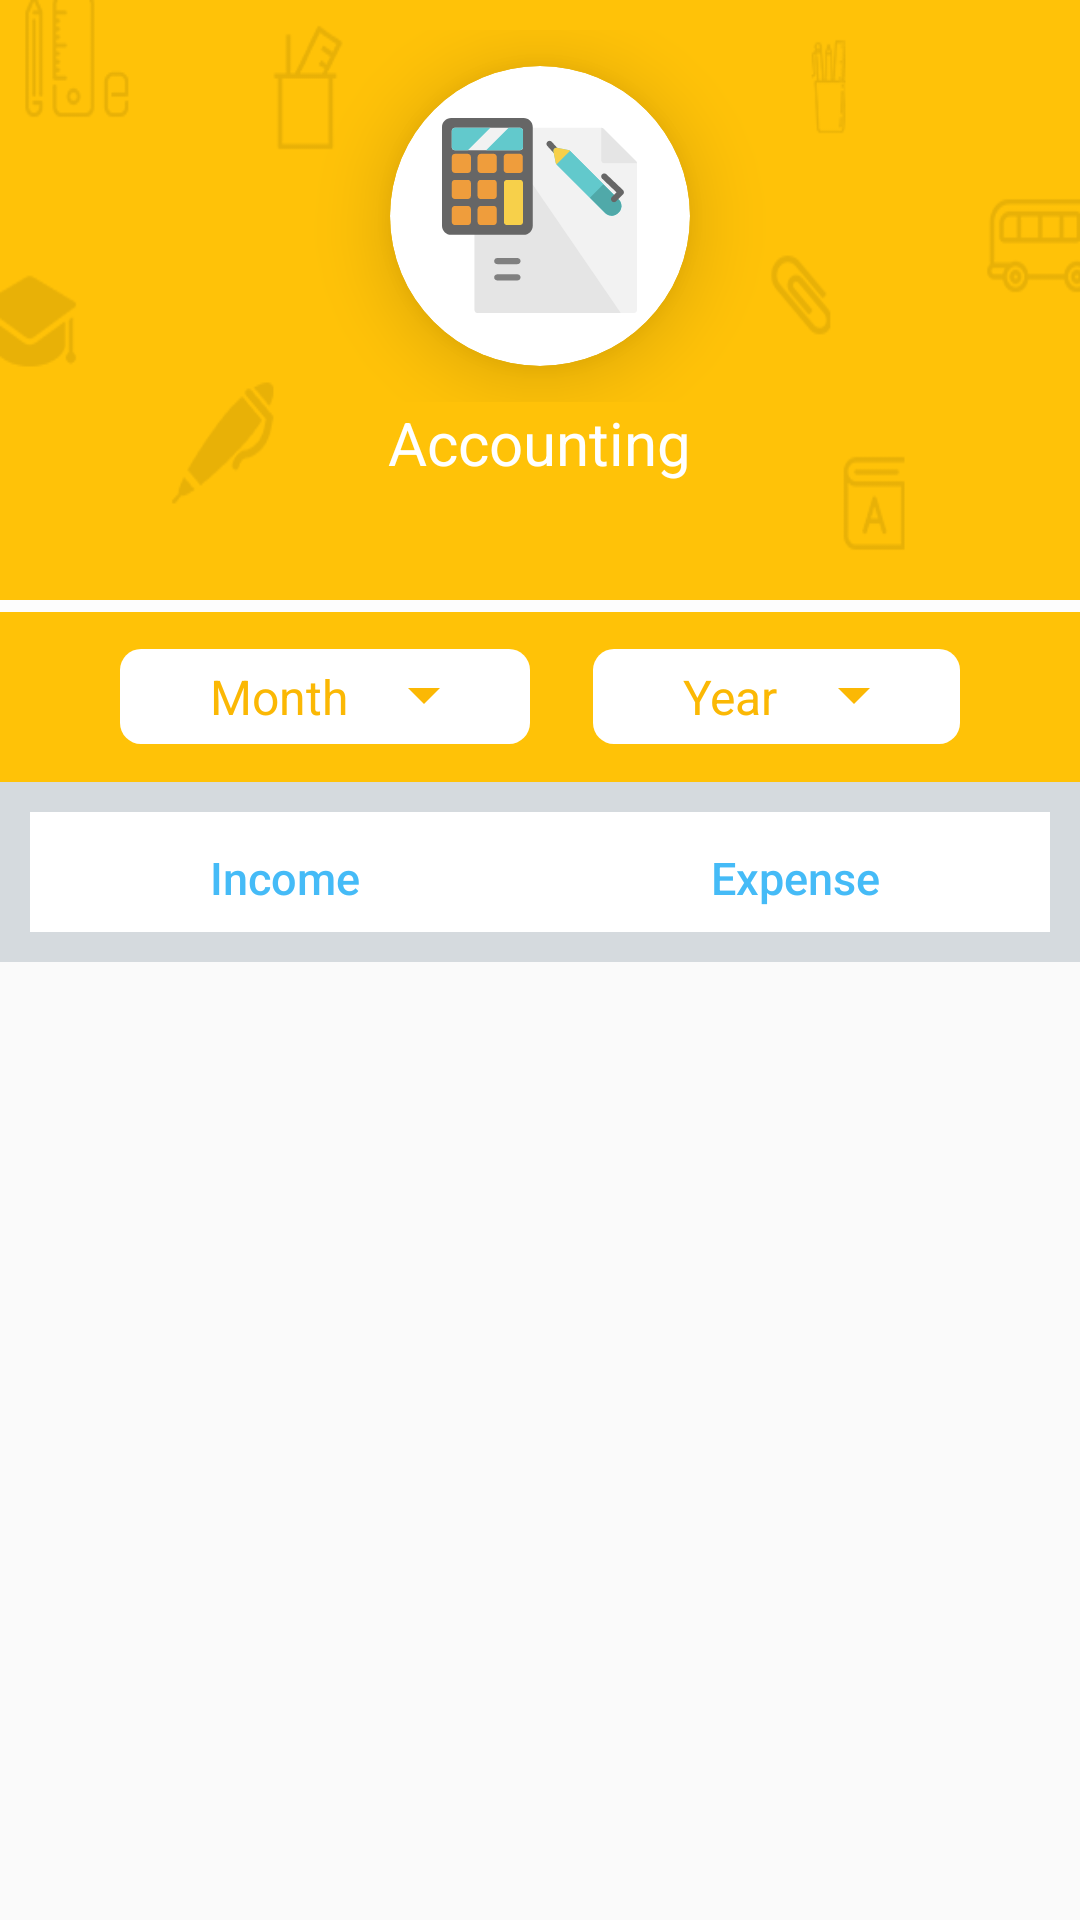

Icon bounding boxes for this 1080w x 1920h phone screenshot, format (x1, y1, x2, y2):
budget: (442, 118, 636, 313)
drop down app: (408, 688, 440, 704), (838, 688, 870, 704)
